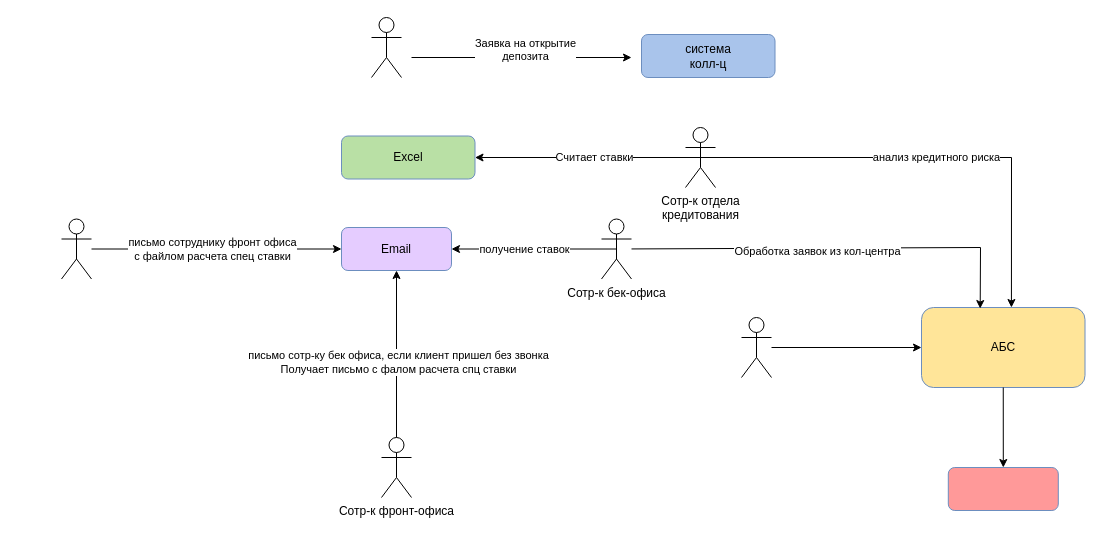
This 1103x536 diagram has some shape labels left out. The centre of each missing label's shape, as x and y in pixels:
"Cмс-шлюз" goes at point 1002,488.
"Клиент" goes at point 386,47.
"Менеджер депозитов" goes at point 76,248.
"Сотрудник колл-цетра" goes at point 756,347.
